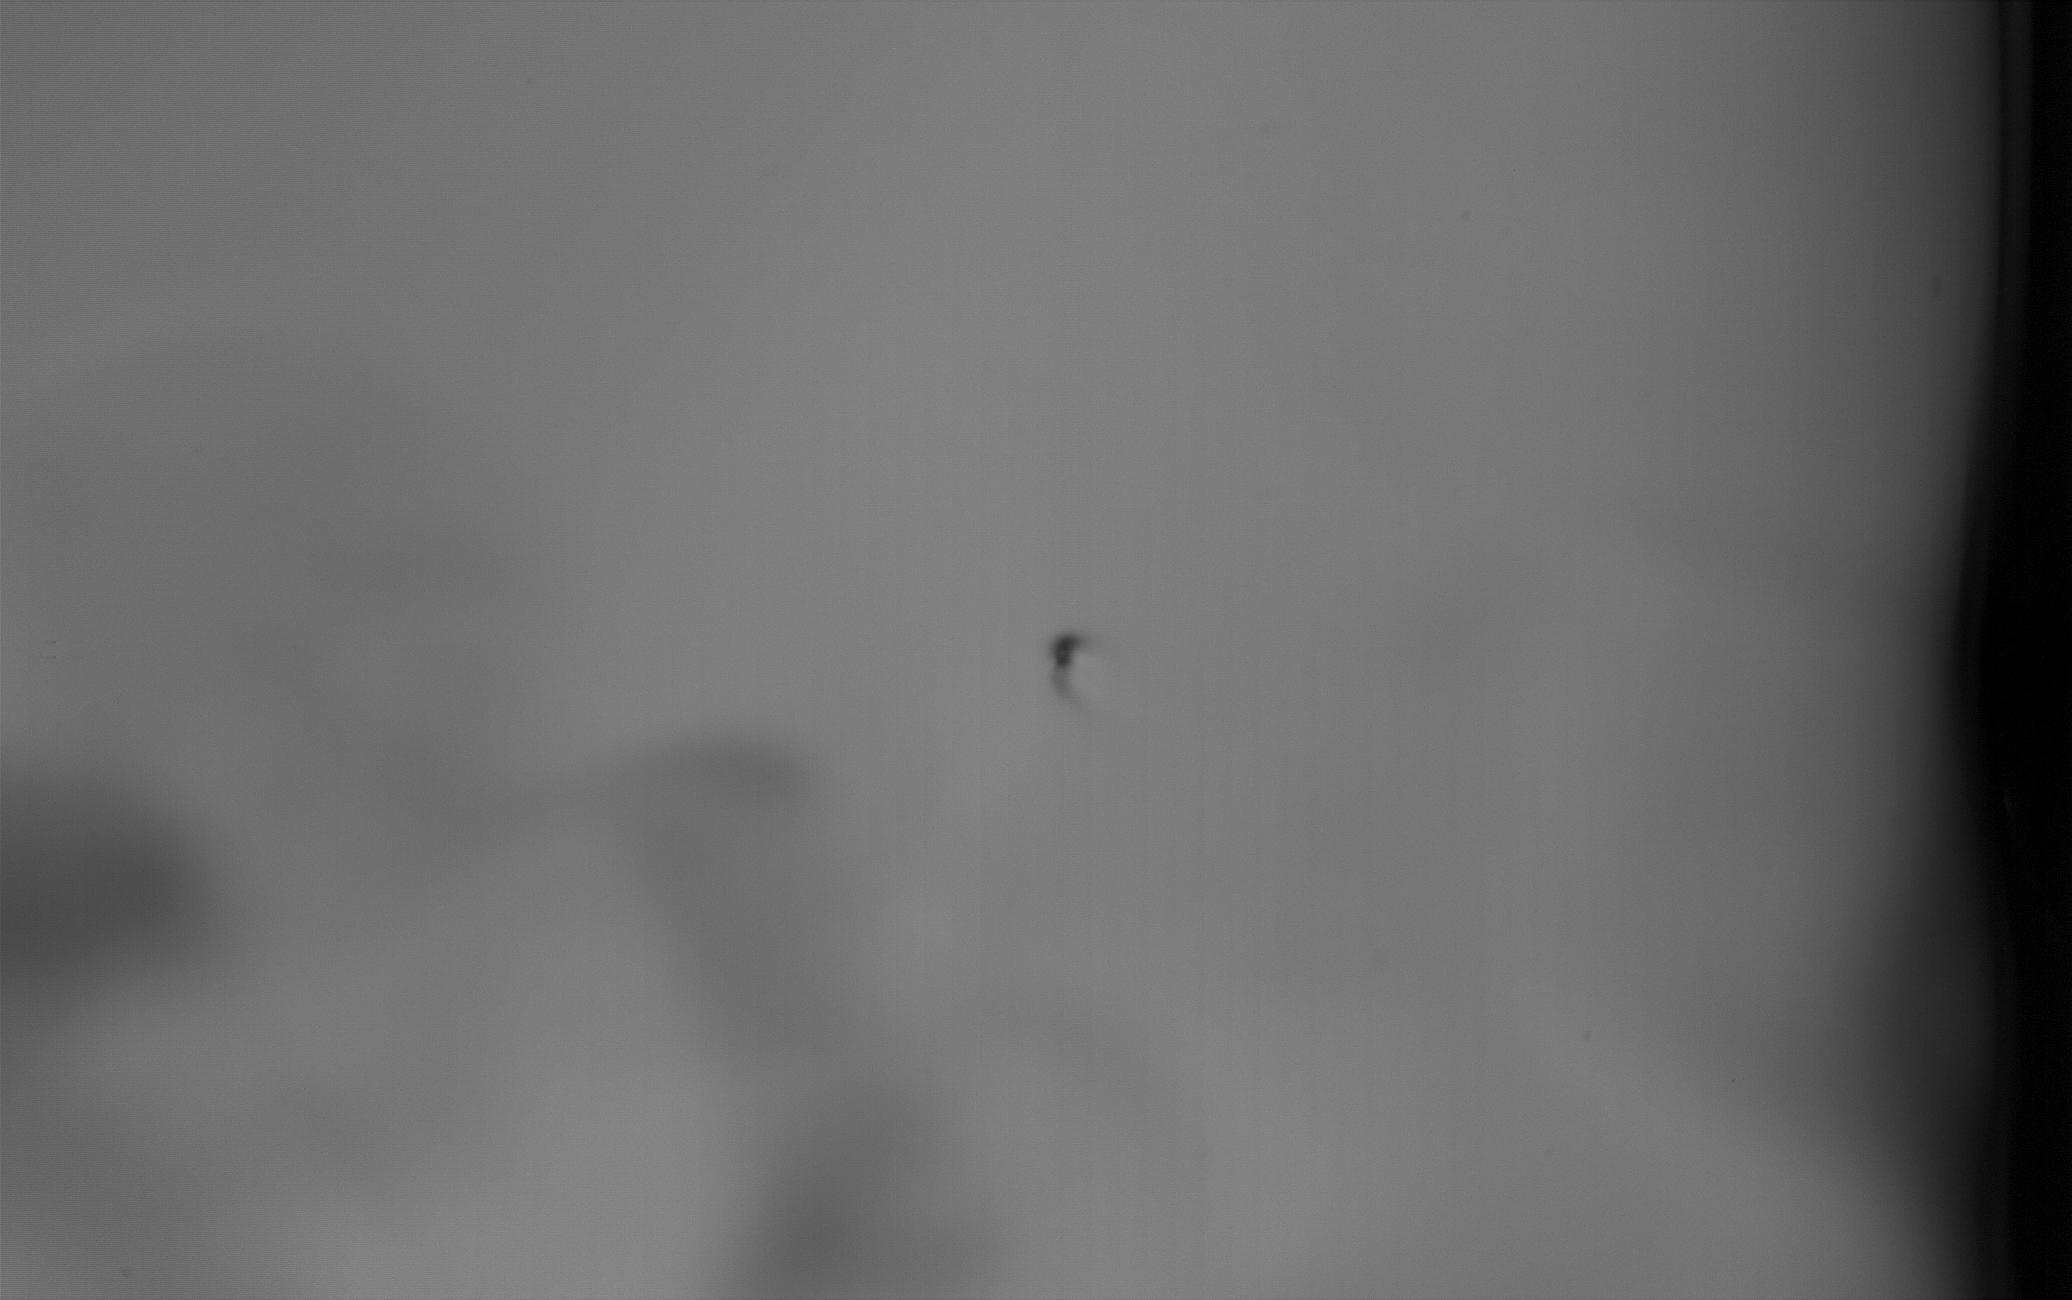DiffusiveMixing: (1049, 622, 1090, 710)
